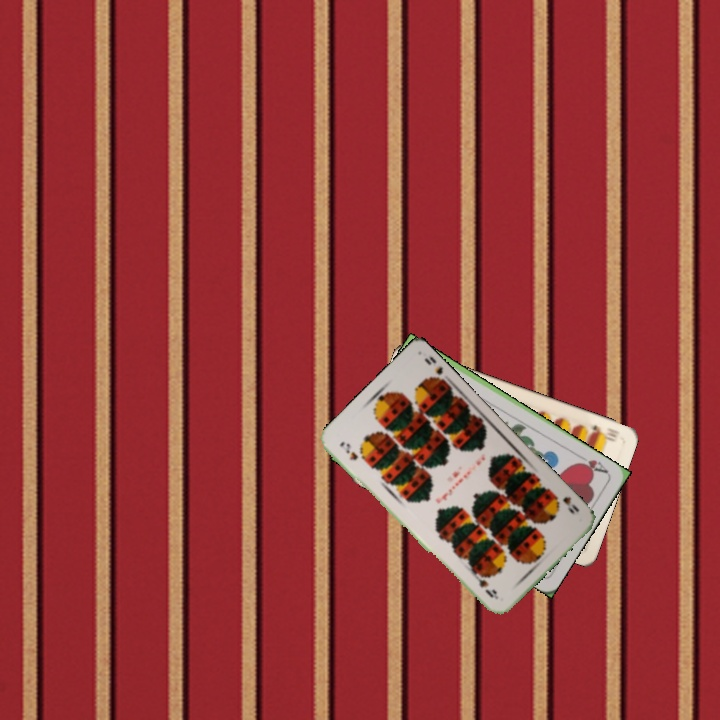E10: (587, 421, 619, 444)
HA: (572, 450, 611, 476)
S9: (549, 489, 582, 516), (335, 437, 360, 463)
